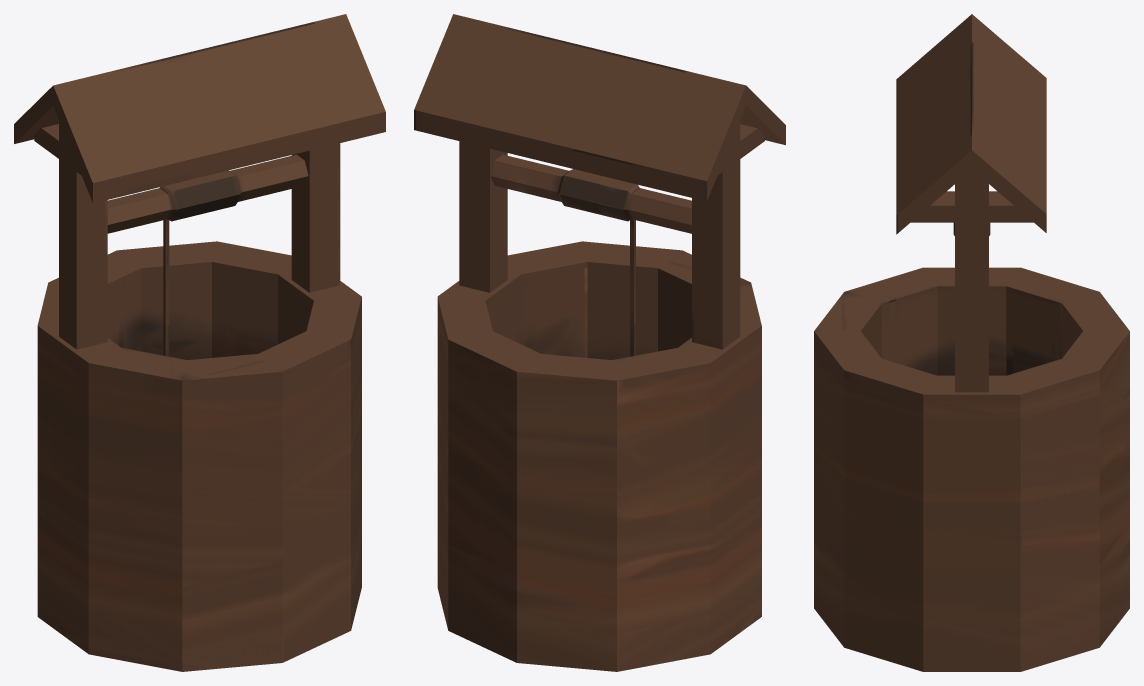
The model's file is pit.fbx.
The picture shows the model from 3 angles, left to right: view 1: azimuth 30°, elevation 25°; view 2: azimuth 150°, elevation 25°; view 3: azimuth 270°, elevation 25°; orthographic projection. The views are drawn at different scales.
Parts seen in each view (by area): view 1: Цилиндр; view 2: Цилиндр; view 3: Цилиндр.
Part boxes in pixels (x1,y1,x2,y2): Цилиндр: (14, 14, 385, 671); Цилиндр: (414, 14, 785, 671); Цилиндр: (814, 14, 1129, 671).
Bounding box in the file's own units: 200 × 360 × 196.
1 material, 1 textured.
